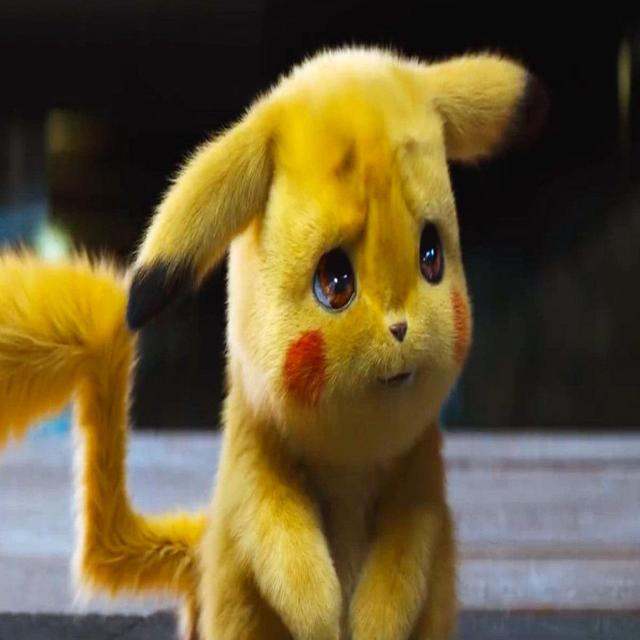pikachu: (2, 49, 548, 635)
